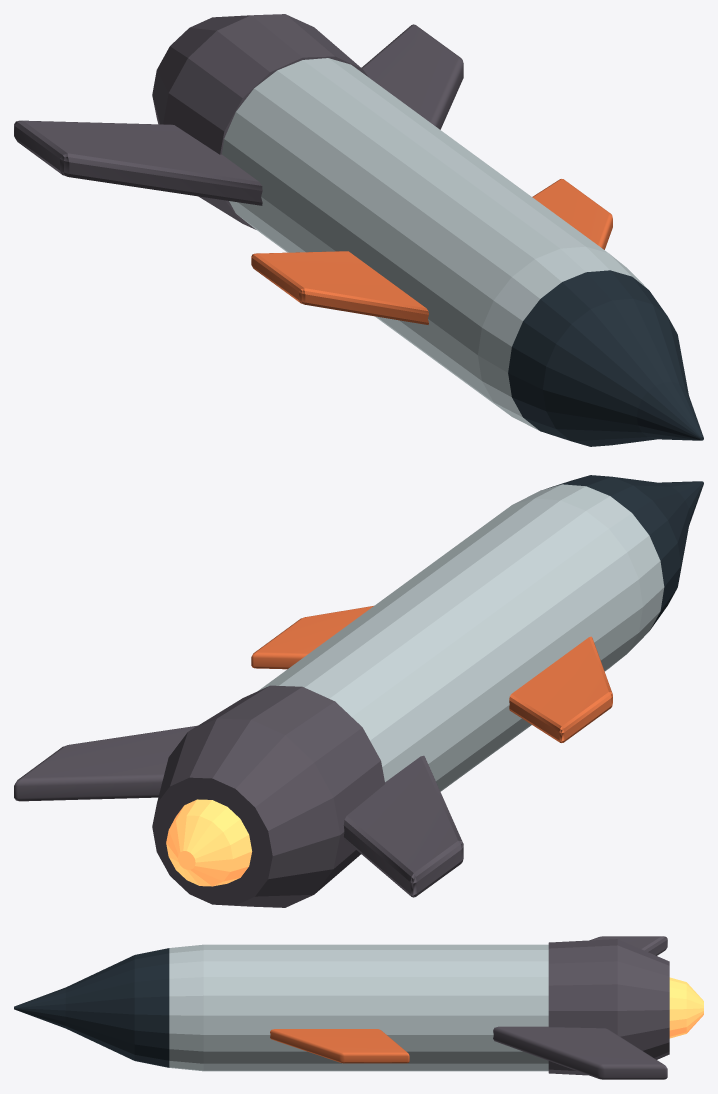
File: rocket.glb
The picture shows the model from 3 angles, top to bottom: view 1: azimuth 30°, elevation 25°; view 2: azimuth 150°, elevation 25°; view 3: azimuth 270°, elevation 25°; orthographic projection. The views are drawn at different scales.
Parts seen in each view (by area): view 1: rocket / body / Brushed silver ceramic, rocket / body / rocket dark structure, rocket / body / Carbon inset, rocket / body / rocket identity shell; view 2: rocket / body / Brushed silver ceramic, rocket / body / rocket dark structure, rocket / body / rocket identity shell, rocket / body / Carbon inset, rocket / body / rocket identity light; view 3: rocket / body / Brushed silver ceramic, rocket / body / rocket dark structure, rocket / body / Carbon inset, rocket / body / rocket identity shell, rocket / body / rocket identity light.
Boxes of the visible parts, bbox=[...] form: rocket / body / Brushed silver ceramic: bbox=[222, 58, 647, 430]; rocket / body / rocket dark structure: bbox=[14, 14, 463, 229]; rocket / body / Carbon inset: bbox=[508, 270, 703, 446]; rocket / body / rocket identity shell: bbox=[251, 179, 612, 324]; rocket / body / Brushed silver ceramic: bbox=[258, 484, 664, 791]; rocket / body / rocket dark structure: bbox=[14, 685, 463, 907]; rocket / body / rocket identity shell: bbox=[251, 606, 612, 742]; rocket / body / Carbon inset: bbox=[546, 475, 703, 629]; rocket / body / rocket identity light: bbox=[166, 799, 252, 886]; rocket / body / Brushed silver ceramic: bbox=[169, 944, 548, 1071]; rocket / body / rocket dark structure: bbox=[493, 936, 669, 1079]; rocket / body / Carbon inset: bbox=[14, 948, 169, 1067]; rocket / body / rocket identity shell: bbox=[270, 1029, 409, 1063]; rocket / body / rocket identity light: bbox=[669, 977, 703, 1038].
Bounding box in the file's own units: 18 × 8 × 40.
